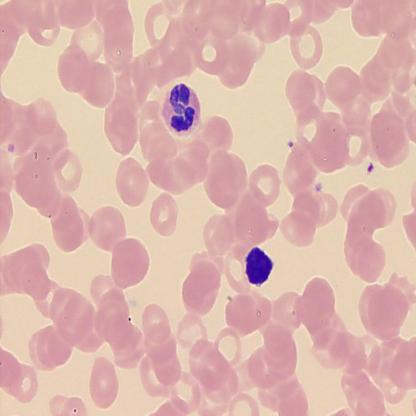Lymphocyte: (245, 245, 274, 288)
